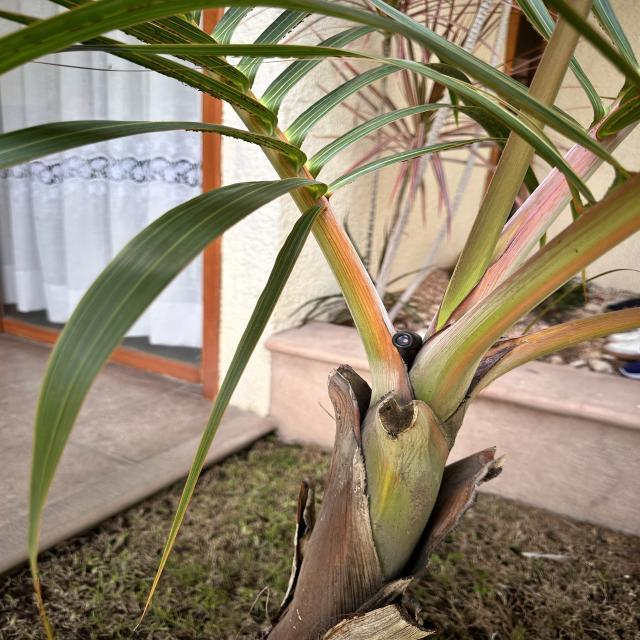hidden camera: (392, 332, 414, 349)
